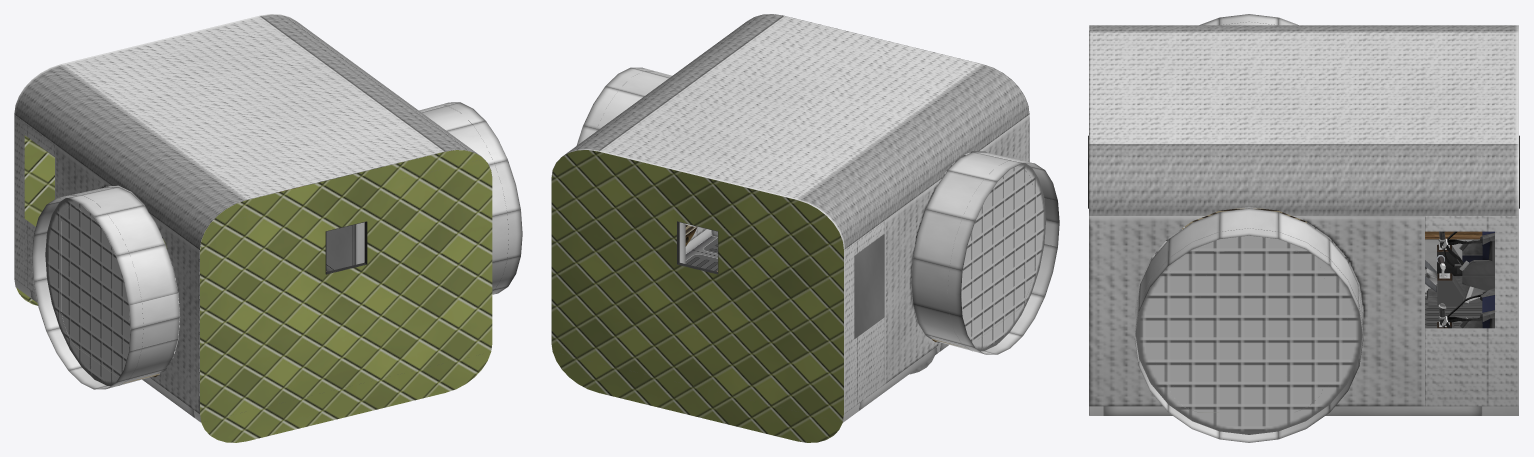
File: CrewCabInterior.FBX
3 views of the same model, side by side, from view 1: azimuth 30°, elevation 25°; view 2: azimuth 150°, elevation 25°; view 3: azimuth 270°, elevation 25° (orthographic). The views are drawn at different scales.
Visible parts, largest first — view 1: Firewall, HardShell2U, Tube002, CrewPortPanel004, Tube001, Firewall003, Box004; view 2: HardShell2U, Firewall003, Tube002, CrewPortPanel004, Box009, Tube001, Floor001; view 3: HardShell2U, CrewPortPanel003, Tube001, Seat002, Seat003, Box007, Tube002, Floor, Left Arm Mount.
Boxes of the visible parts, <box> form: Firewall: <box>200,150,492,442</box>; HardShell2U: <box>14,14,492,422</box>; Tube002: <box>31,187,179,389</box>; CrewPortPanel004: <box>45,195,143,385</box>; Tube001: <box>419,102,522,294</box>; Firewall003: <box>16,135,306,305</box>; Box004: <box>310,169,370,271</box>; HardShell2U: <box>551,14,1029,422</box>; Firewall003: <box>551,150,843,442</box>; Tube002: <box>911,152,1059,354</box>; CrewPortPanel004: <box>947,160,1046,351</box>; Box009: <box>854,192,933,339</box>; Tube001: <box>576,67,695,226</box>; Floor001: <box>685,236,940,342</box>; HardShell2U: <box>1089,25,1518,415</box>; CrewPortPanel003: <box>1135,228,1363,434</box>; Tube001: <box>1134,208,1363,442</box>; Seat002: <box>1427,231,1494,303</box>; Seat003: <box>1442,288,1494,328</box>; Box007: <box>1425,231,1482,272</box>; Tube002: <box>1183,14,1298,228</box>; Floor: <box>1425,291,1482,328</box>; Left Arm Mount: <box>1437,273,1462,306</box>.
Bounding box in the file's own units: 2.07 × 1.21 × 1.7.
